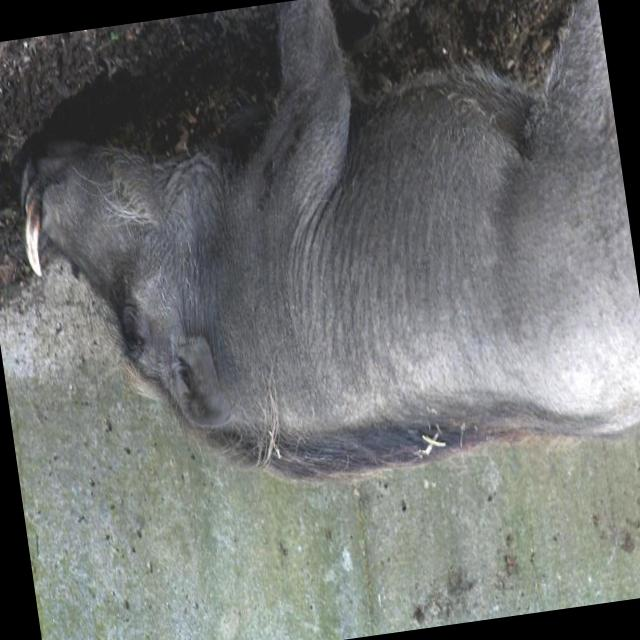pig: (22, 0, 640, 482)
